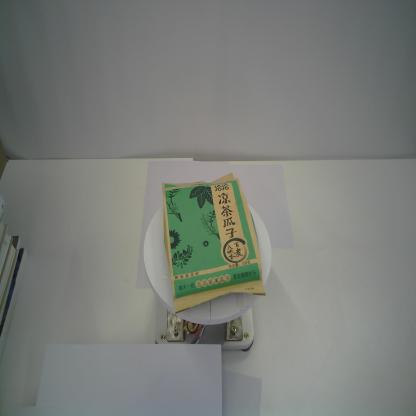Dried Food: (161, 170, 267, 315)
